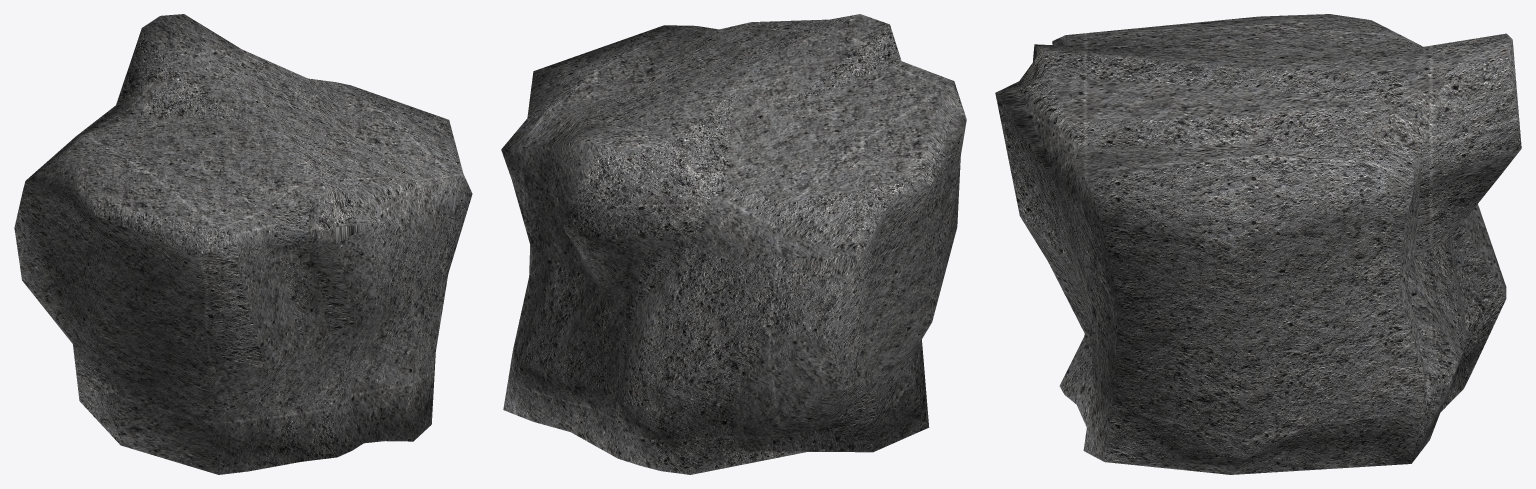
The model's file is graper.obj.
The picture shows the model from 3 angles, left to right: view 1: azimuth 30°, elevation 25°; view 2: azimuth 150°, elevation 25°; view 3: azimuth 270°, elevation 25°; orthographic projection. The views are drawn at different scales.
Visible parts, largest first — view 1: Box004; view 2: Box004; view 3: Box004.
Boxes of the visible parts, left/top/right/bottom form: Box004: left=14, top=14, right=472, bottom=474; Box004: left=501, top=14, right=966, bottom=474; Box004: left=995, top=14, right=1521, bottom=474.
Size of the model in its own units: 11.2 by 9.36 by 12.09.
